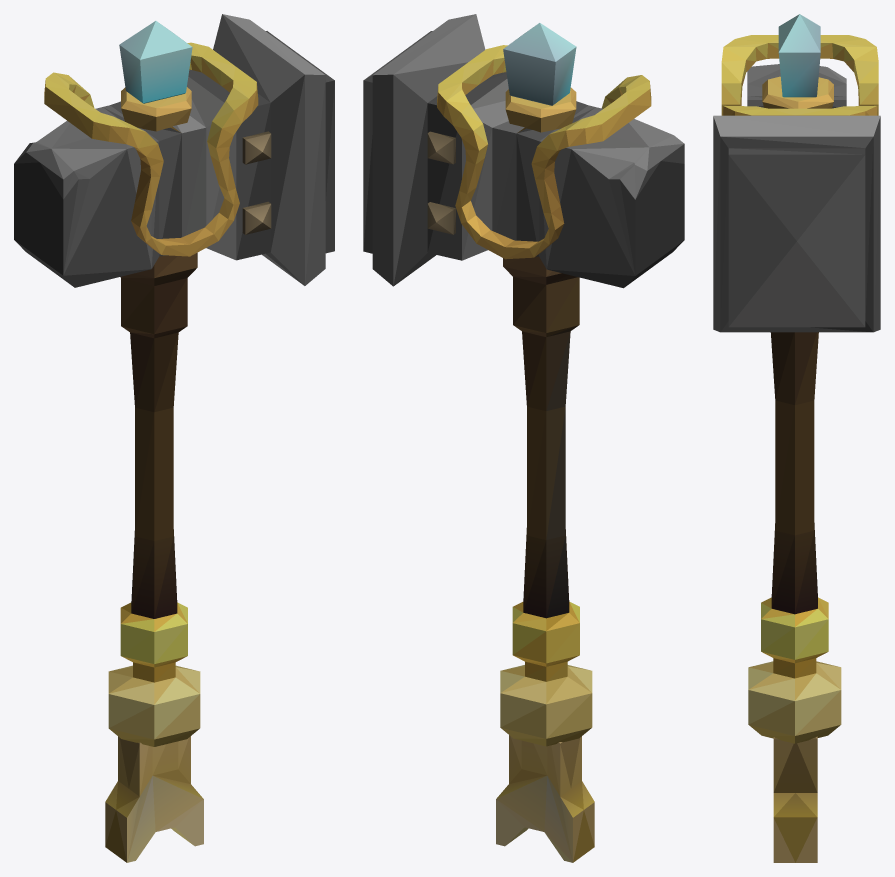
The model's file is weapon_hammer_gold_2.fbx.
The picture shows the model from 3 angles, left to right: view 1: azimuth 30°, elevation 25°; view 2: azimuth 150°, elevation 25°; view 3: azimuth 270°, elevation 25°; orthographic projection.
Visible parts, largest first — view 1: weapon_hammer_gold_2; view 2: weapon_hammer_gold_2; view 3: weapon_hammer_gold_2.
Boxes of the visible parts, <box> form: weapon_hammer_gold_2: <box>14,14,334,862</box>; weapon_hammer_gold_2: <box>363,14,684,862</box>; weapon_hammer_gold_2: <box>713,14,880,862</box>.
Size of the model in its own units: 0.9844 by 2.94 by 0.5371.
